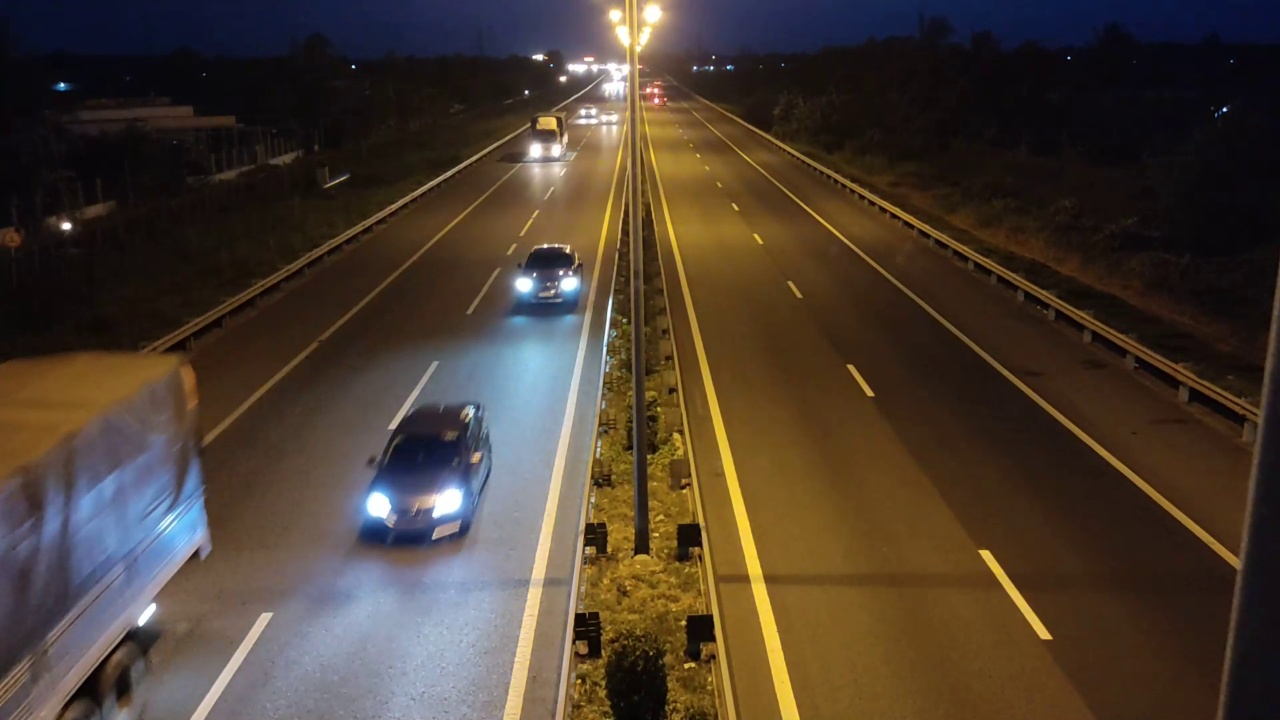car: (360, 400, 494, 547), (510, 244, 584, 314)
